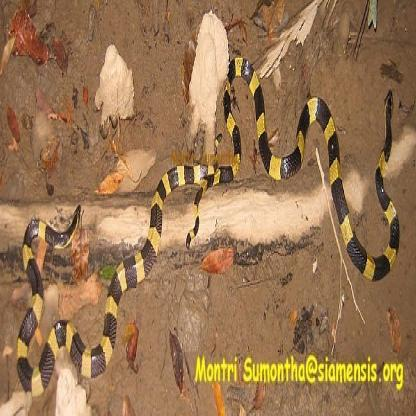Snake: (3, 56, 405, 387)
